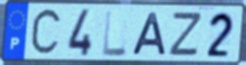2: (204, 9, 236, 60)
4: (66, 7, 94, 59)
A: (129, 11, 169, 57)
C: (28, 6, 64, 59)
L: (101, 9, 128, 58)
Z: (166, 11, 205, 58)
